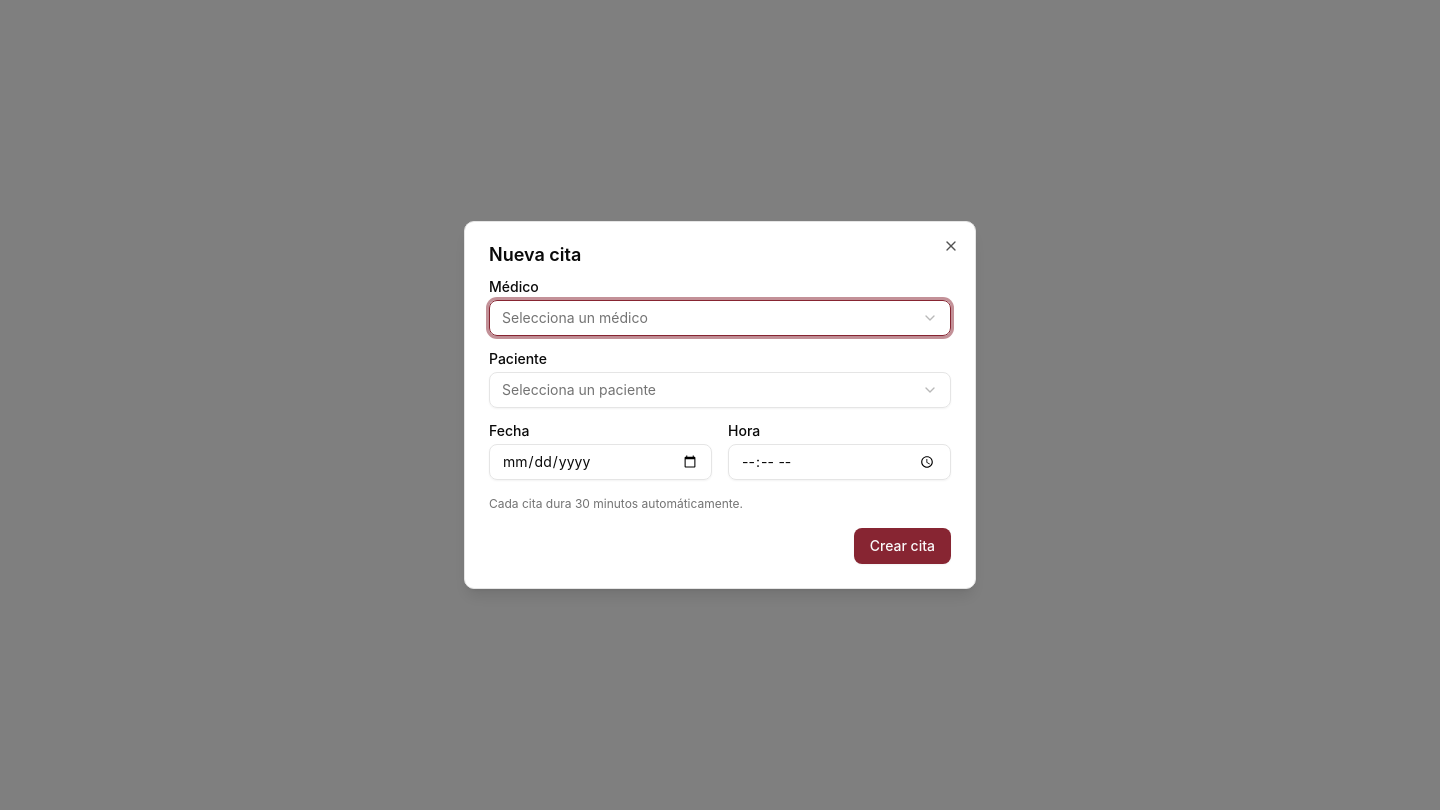
Test: CitaFormDialog › muestra el mensaje de error del backend cuando falla la creación
The image size is (1440, 810).
Expected: the text "Selecciona un médico" is shown, [502, 308, 648, 328]
Click the dropdown labelled "Selecciona un médico" at x=575, y=318, box [489, 300, 951, 336]
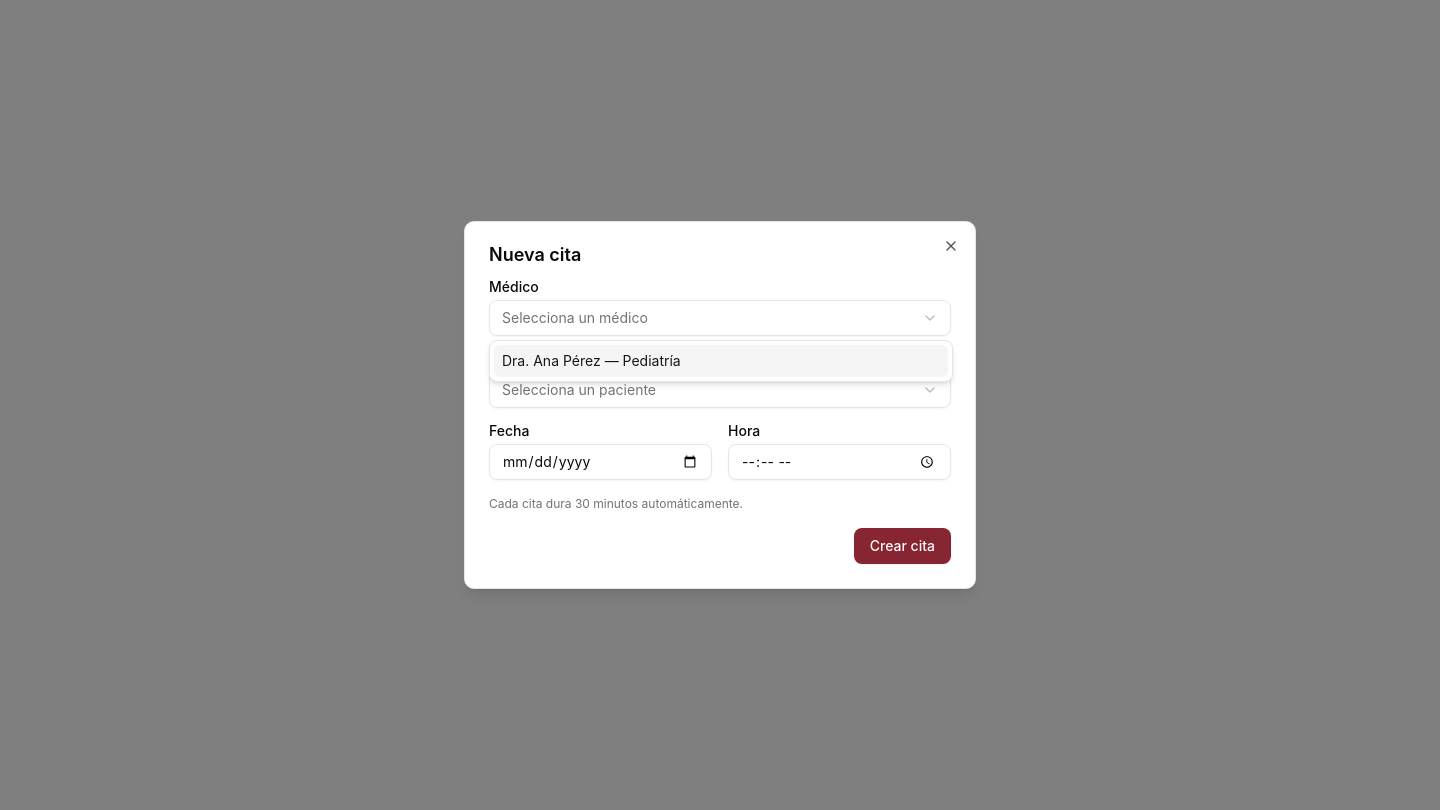
Click the option "Dra. Ana Pérez — Pediatría" at x=551, y=360, box [494, 345, 948, 377]
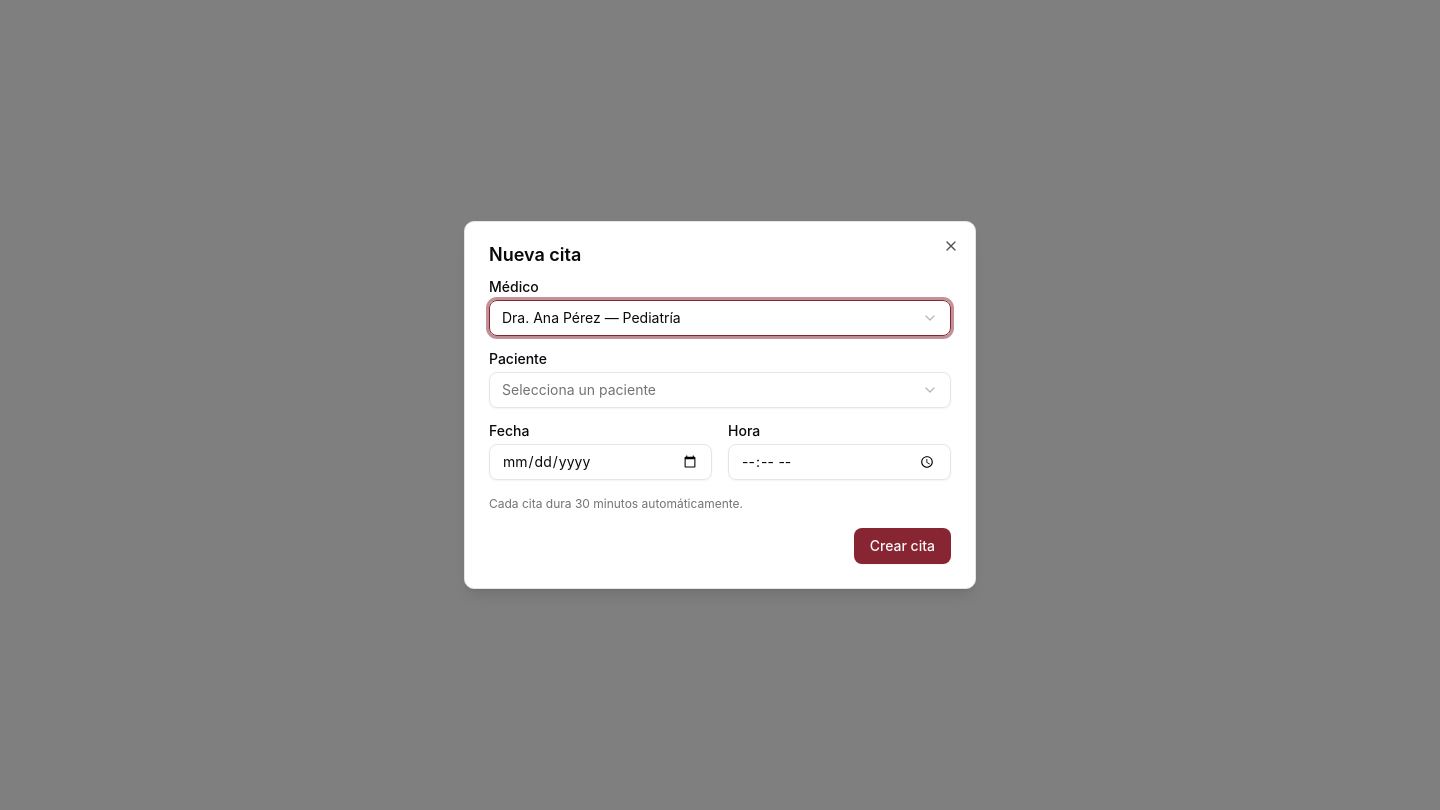
Click the dropdown labelled "Selecciona un paciente" at x=579, y=390, box [489, 372, 951, 408]
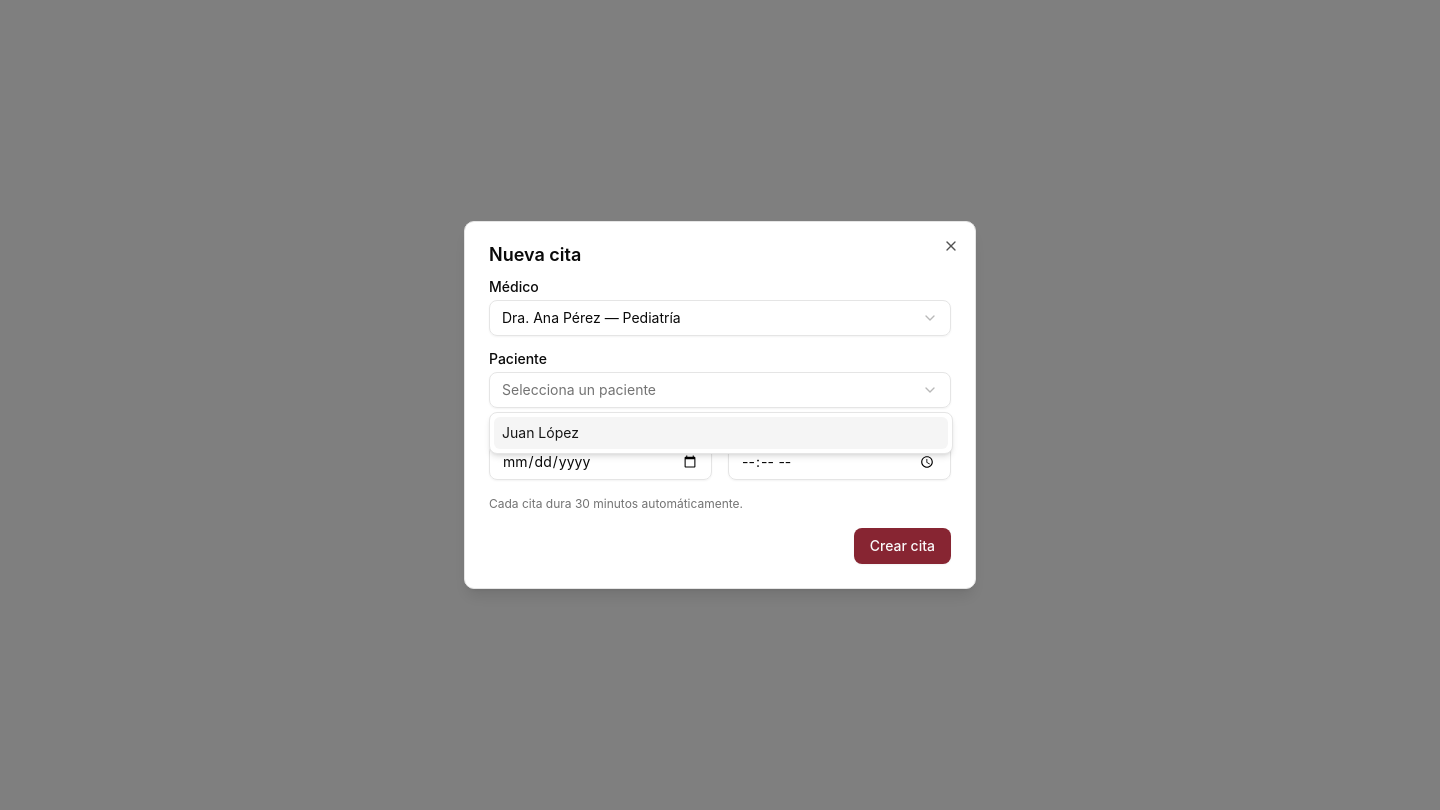
Click the option "Juan López" at x=540, y=432, box [494, 417, 948, 449]
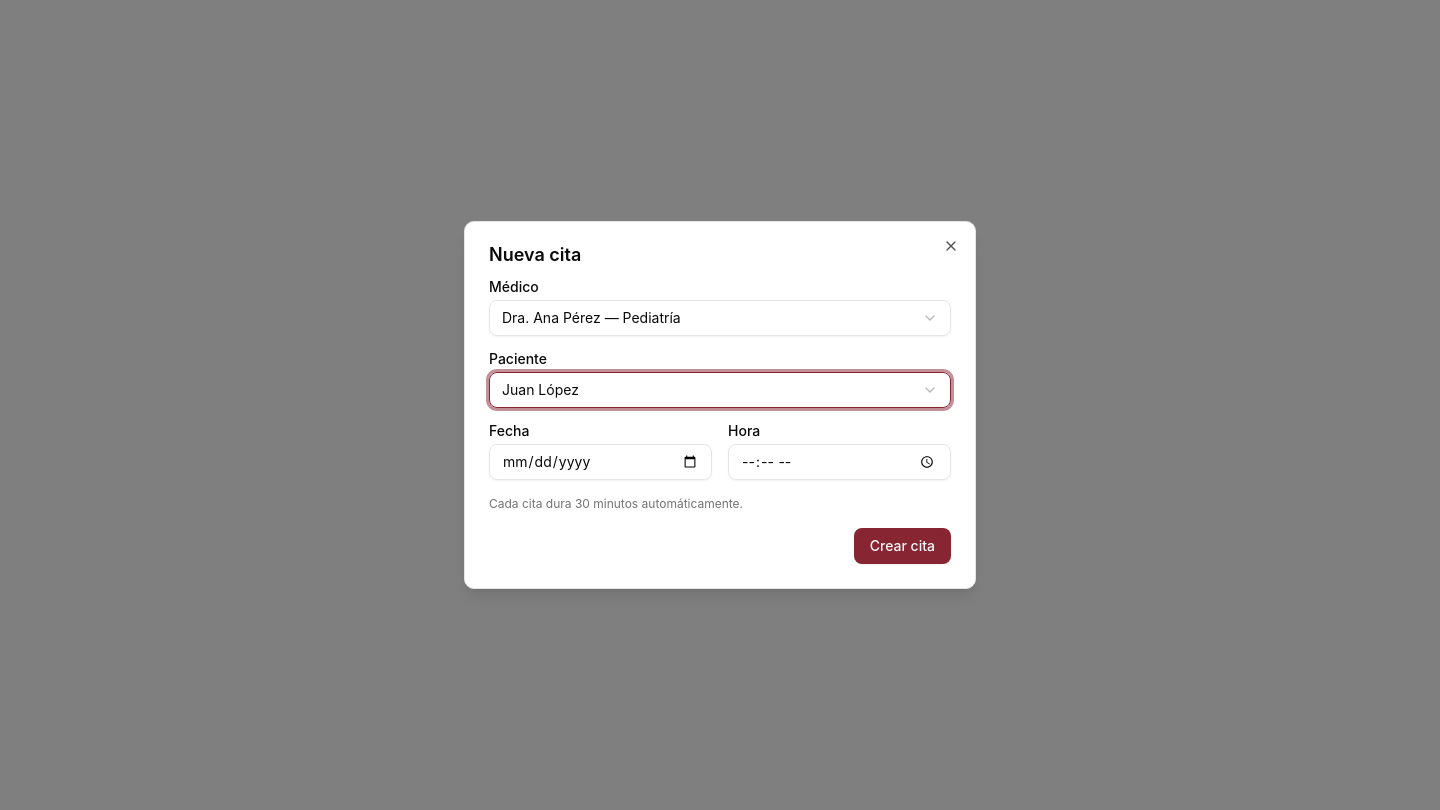
Type "2030-01-02" into the date field labelled "Fecha" at x=600, y=462, box [489, 444, 712, 480]
Type "10:00" into the time field labelled "Hora" at x=840, y=462, box [728, 444, 951, 480]
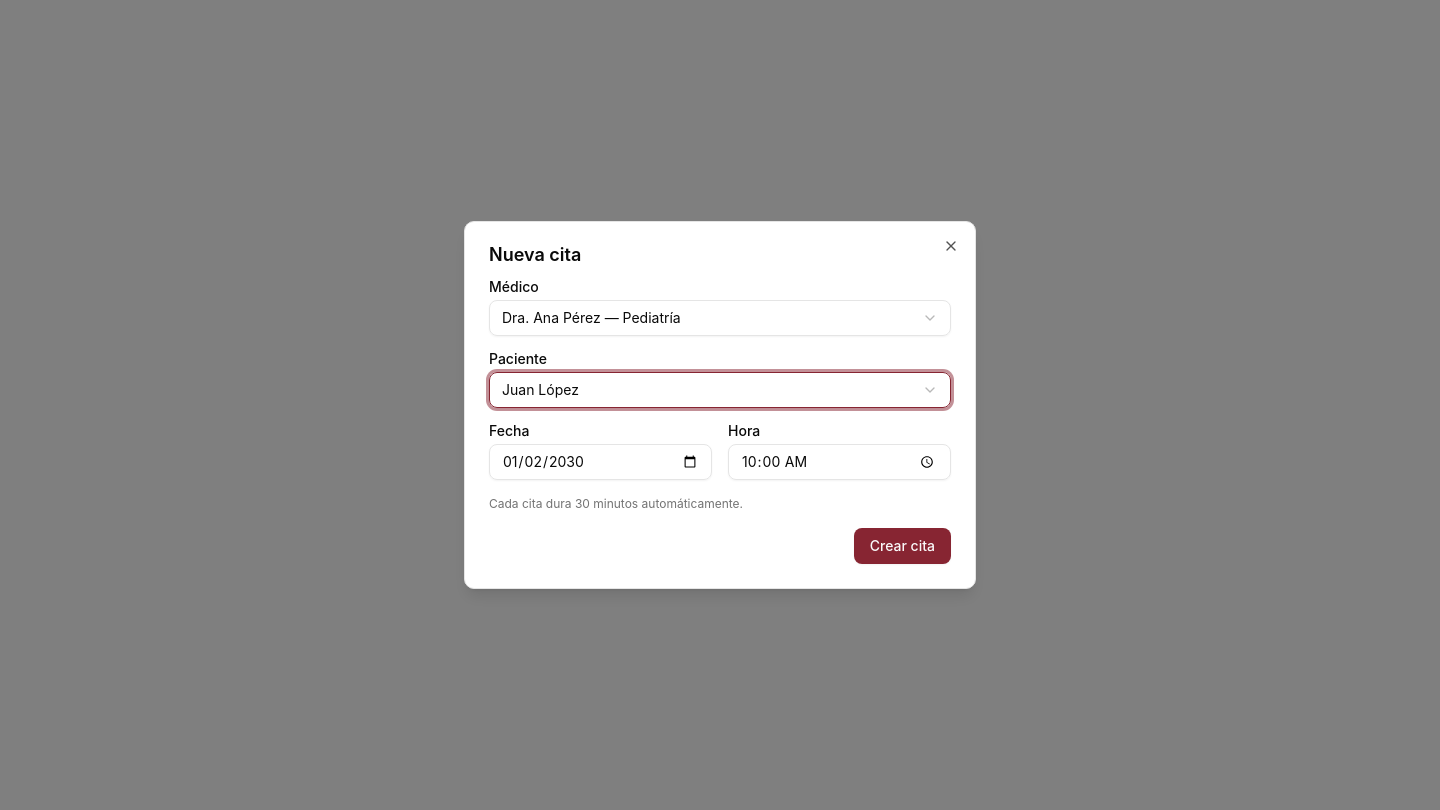
Click the button "Crear cita" at x=902, y=546, box [854, 528, 951, 564]
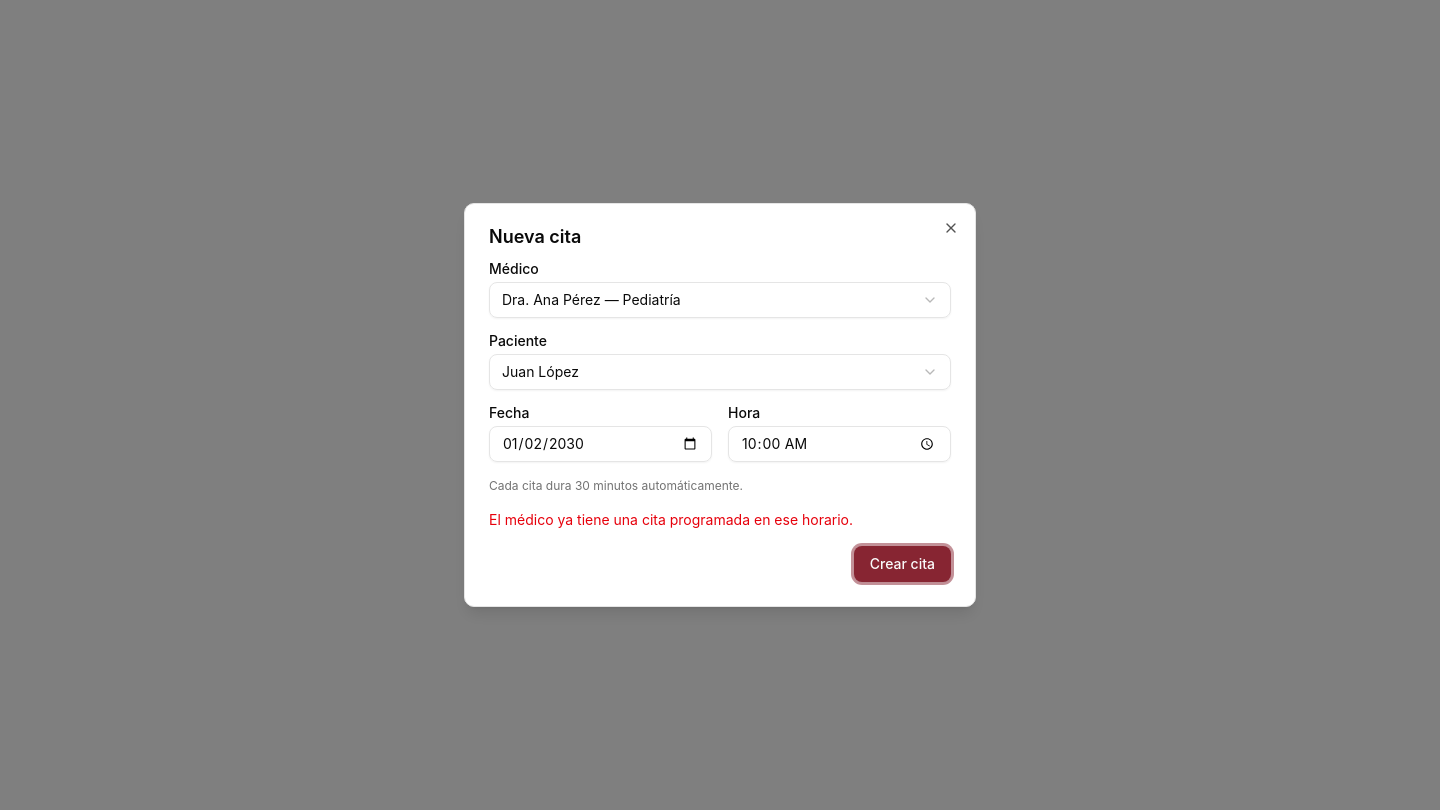
Result: the text "El médico ya tiene una cita programada en ese horario." is shown at [489, 511, 853, 528]
